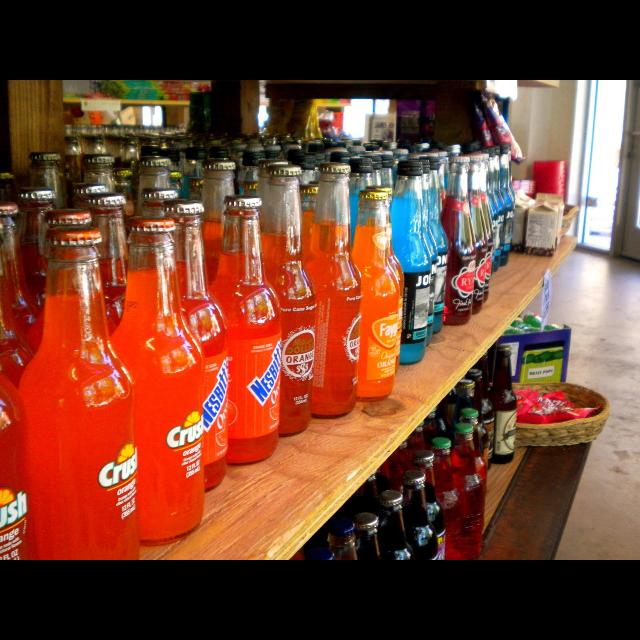garrafa de vidro: (20, 230, 136, 560), (108, 220, 206, 544), (208, 195, 282, 465), (167, 200, 230, 492), (302, 161, 364, 421), (260, 165, 316, 438), (344, 190, 400, 400), (388, 160, 430, 366), (441, 158, 475, 326), (401, 470, 444, 560), (488, 344, 518, 464), (379, 490, 416, 560), (326, 518, 358, 560), (352, 512, 380, 560)
